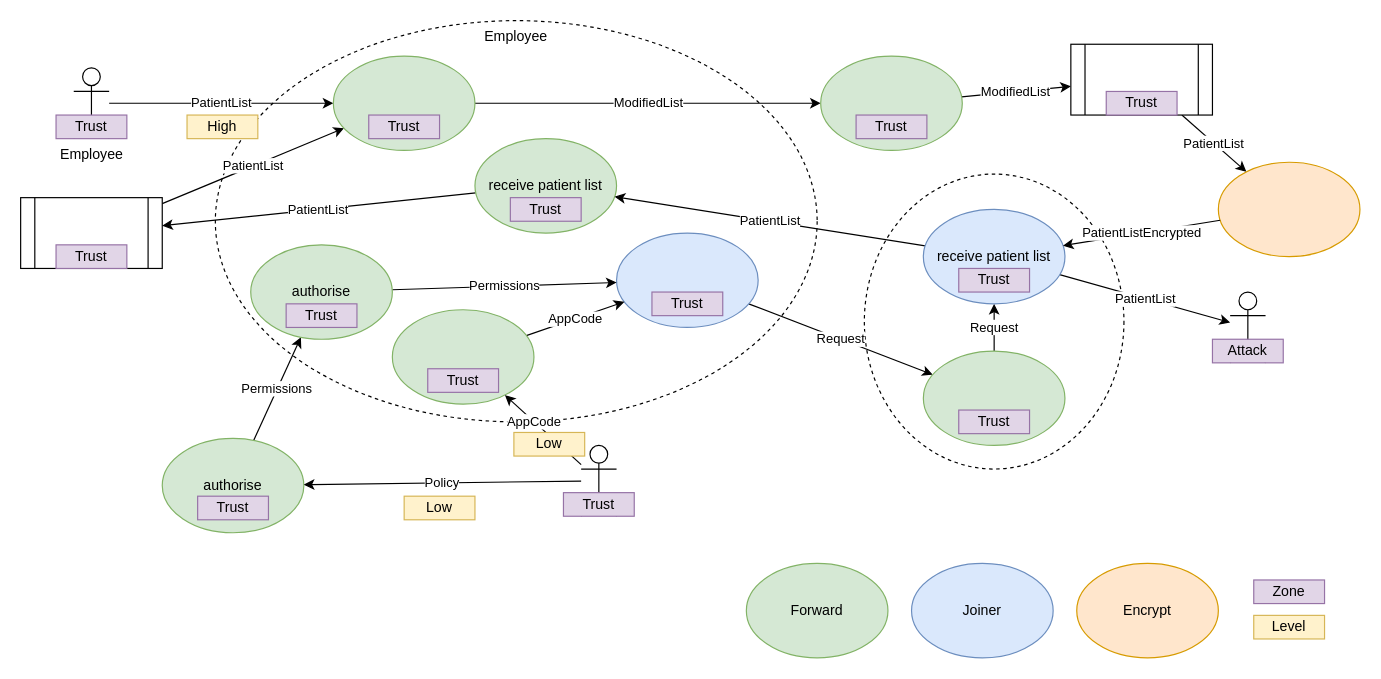
Image size: 1381x679. Some labels were removed from this diagram. The shapes that lost their labels are listed below. From the top down, each one's box as (x1, y1, x2, y2) in pixels, then its label:
(1070, 43, 1212, 115): Hospital DS
(332, 55, 475, 150): modify patient list
(820, 55, 962, 150): write list
(1217, 161, 1360, 257): declassify
(19, 196, 162, 268): Dropbox
(615, 232, 758, 327): build list request
(863, 173, 1124, 469): Read List
(1229, 291, 1266, 363): Attacker
(391, 309, 534, 404): load app code
(922, 350, 1065, 445): request patient list
(580, 444, 617, 516): HospitalApp
